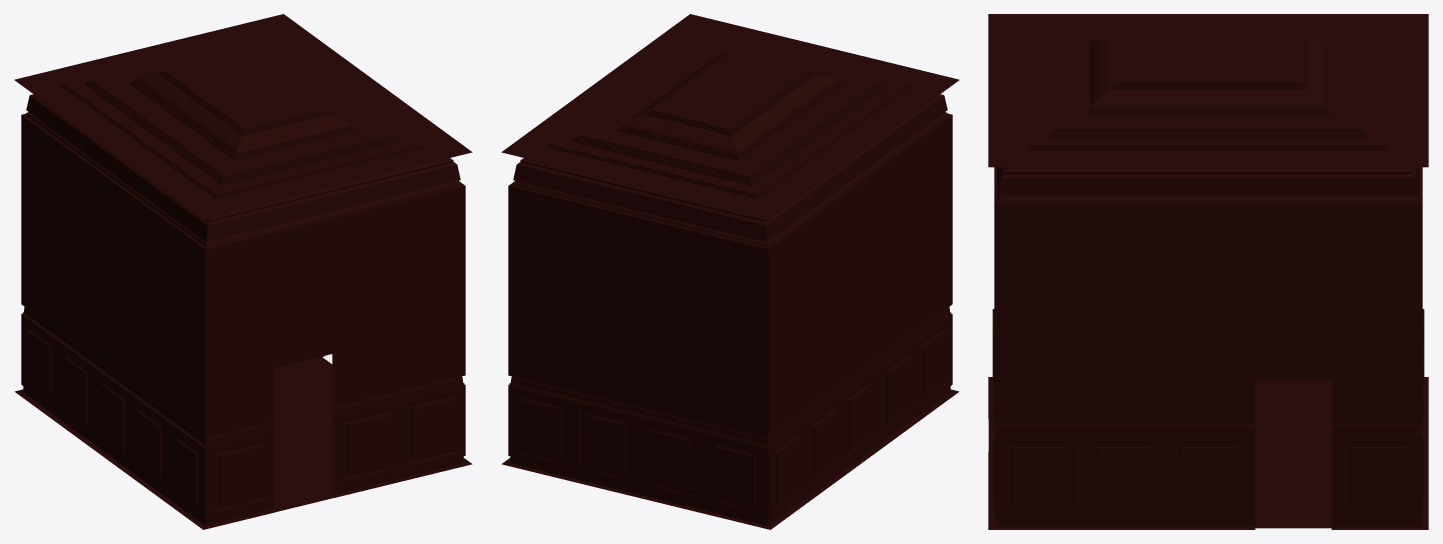
File: 2door_8.FBX
3 views of the same model, side by side, from view 1: azimuth 30°, elevation 25°; view 2: azimuth 150°, elevation 25°; view 3: azimuth 270°, elevation 25° (orthographic). The views are drawn at different scales.
Visible parts, largest first — view 1: wall, ceiling, floor; view 2: wall, ceiling, floor; view 3: wall, ceiling, floor.
Boxes of the visible parts, left/top/right/bottom form: wall: left=14, top=14, right=472, bottom=529; ceiling: left=14, top=25, right=467, bottom=217; floor: left=17, top=356, right=468, bottom=528; wall: left=501, top=14, right=959, bottom=529; ceiling: left=506, top=16, right=959, bottom=217; floor: left=505, top=389, right=955, bottom=529; wall: left=988, top=14, right=1428, bottom=529; ceiling: left=989, top=23, right=1427, bottom=167; floor: left=988, top=378, right=1428, bottom=528.
Bounding box in the file's own units: 160 × 195 × 192.
